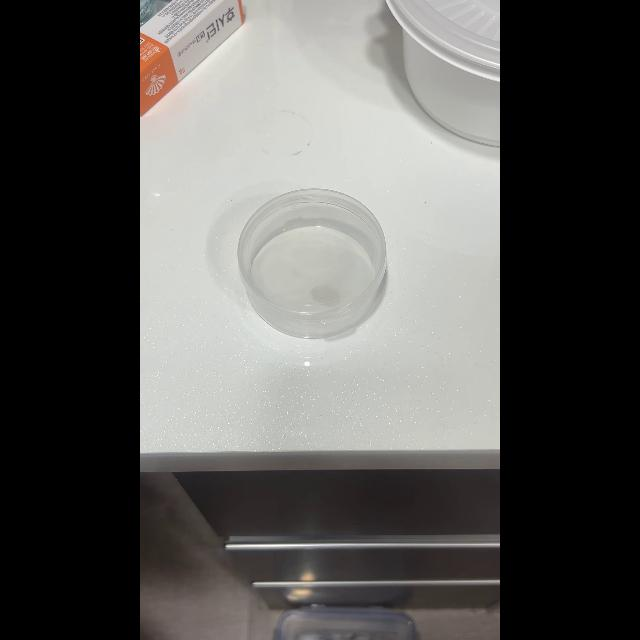clean: (236, 188, 386, 338)
